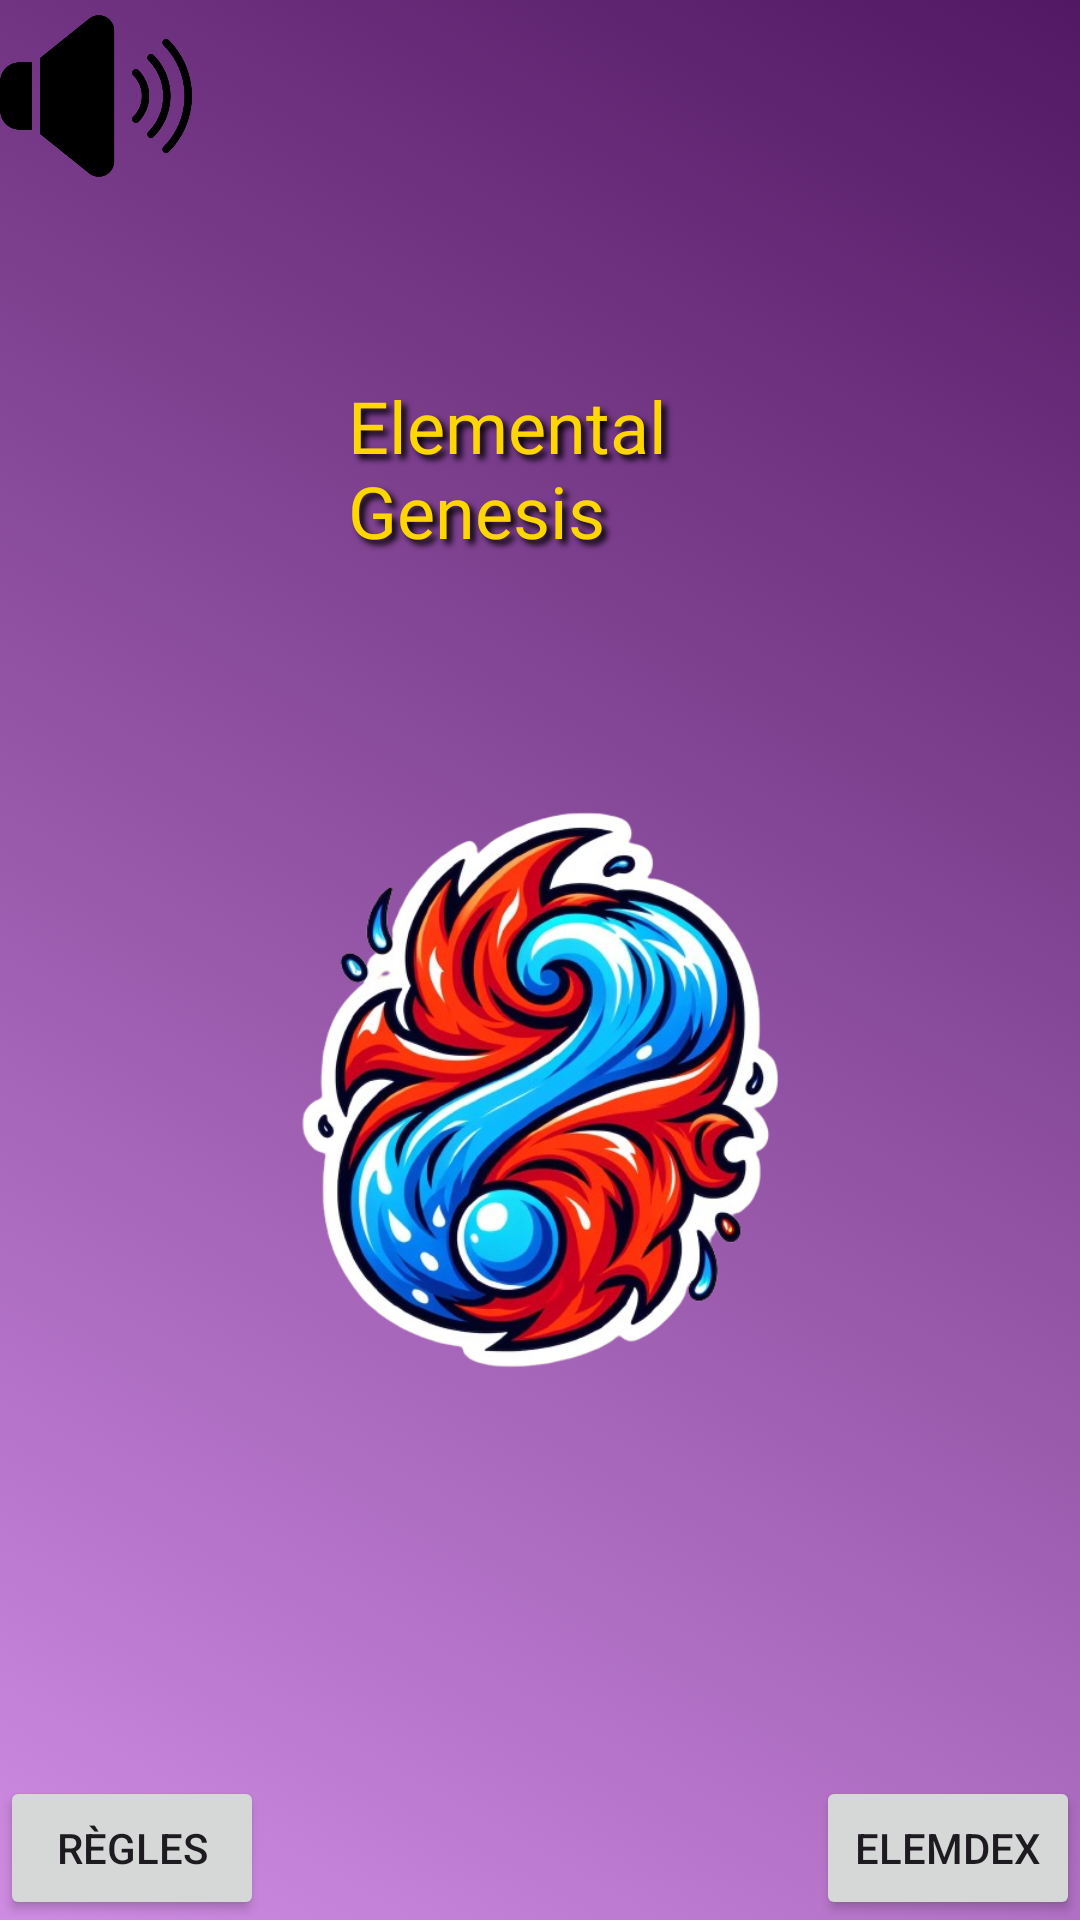

Where icons sit on this 1080×1920 app screen, as (x1, y1, x2, y2):
sound: (0, 15, 192, 177)
